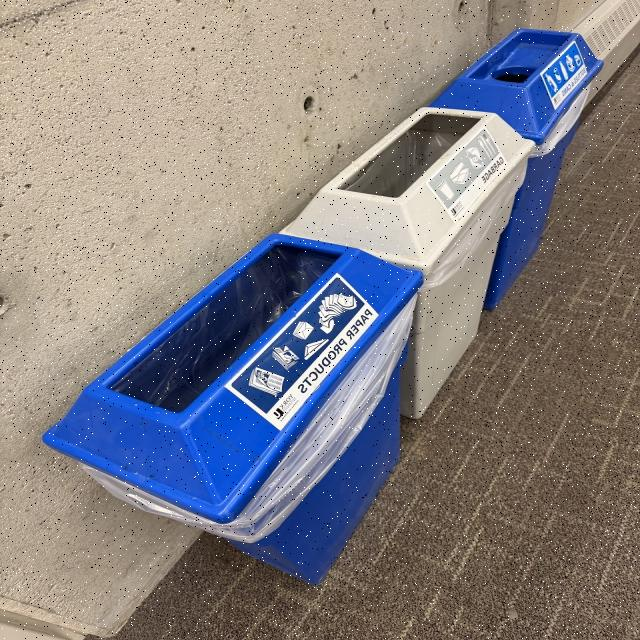Dustbin: (41, 27, 605, 586)
